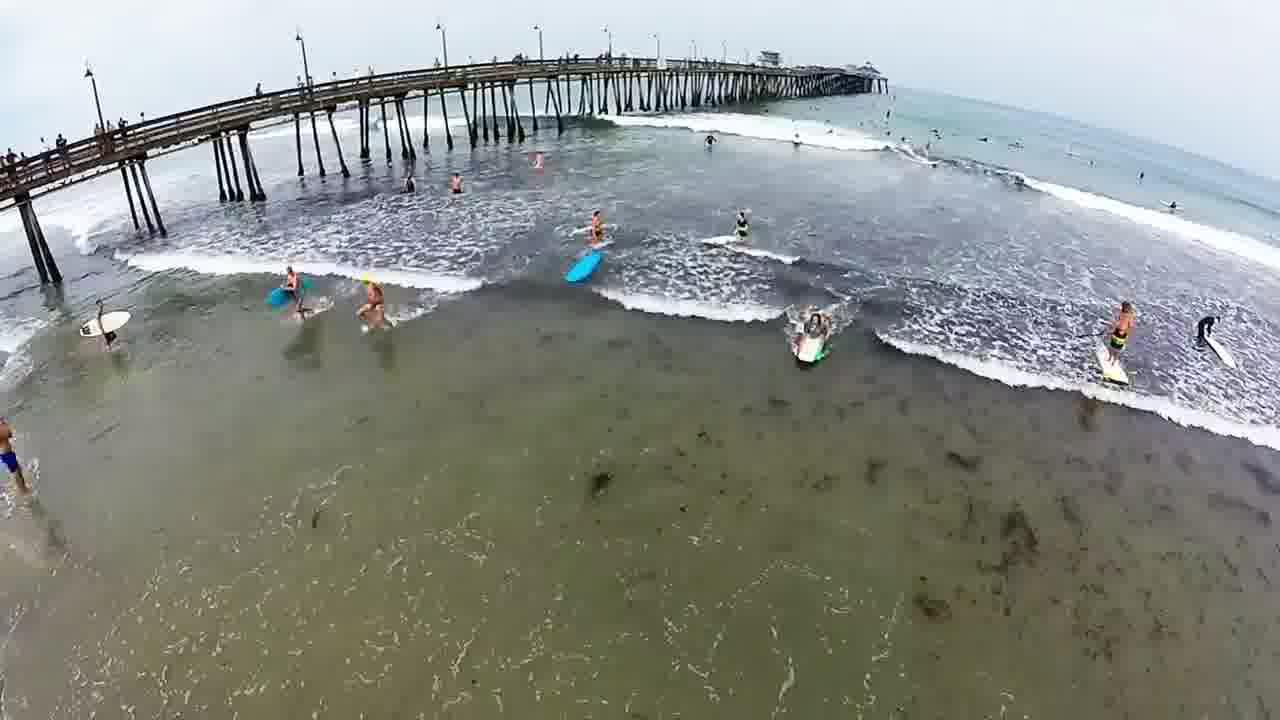human: (448, 164, 485, 205), (573, 201, 613, 233), (726, 206, 761, 236), (696, 127, 723, 156), (396, 169, 425, 186)
